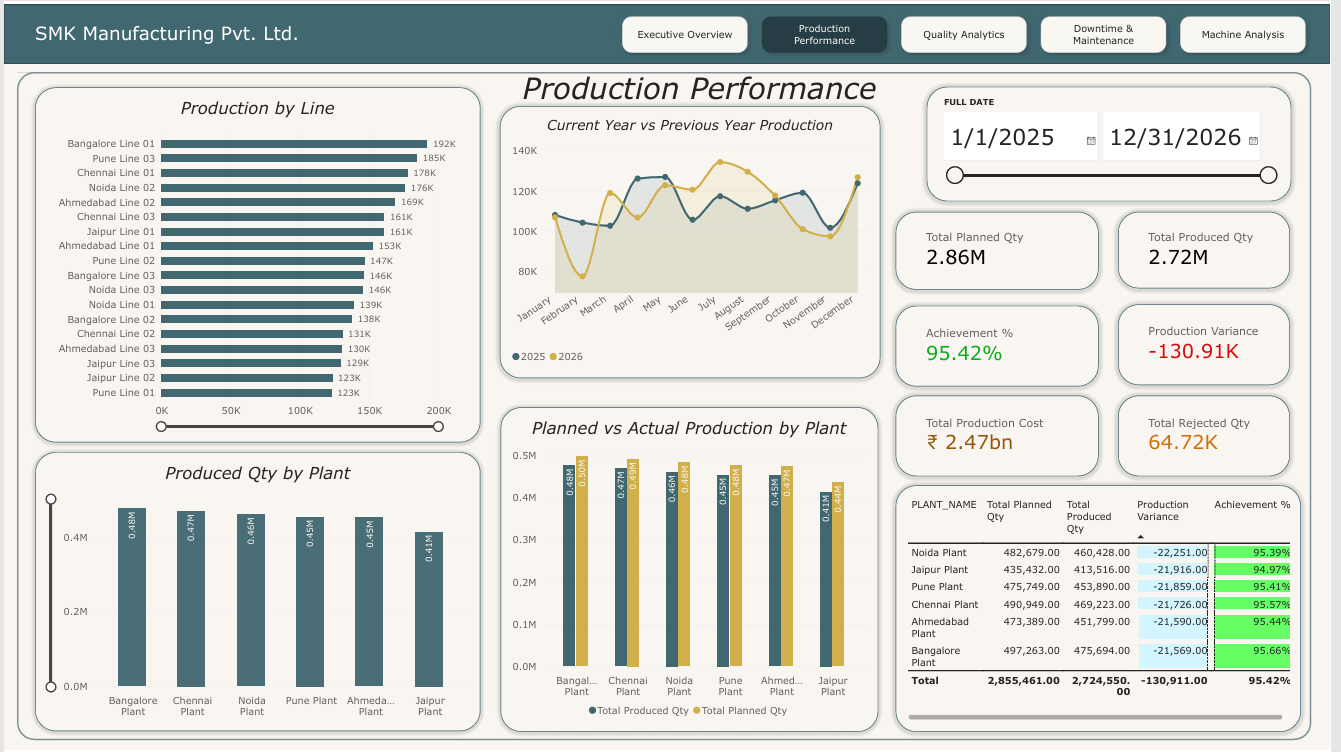

The dashboard page shown, as its layout file describes it:
{"tool":"powerbi","page":{"name":"Production Performance","canvas":[1920,1080],"ordinal":1},"visuals":[{"type":"shape","box":[19,97.6,1873.8,966.7],"z":0},{"type":"cardVisual","fields":{"Data":["FACT_PRODUCTION.Total Produced Qty"]},"box":[1612.8,300,249.1,111.3],"z":1000},{"type":"cardVisual","fields":{"Data":["FACT_PRODUCTION.Total Planned Qty"]},"box":[1291.5,300,293.6,112.8],"z":2000},{"type":"cardVisual","fields":{"Data":["FACT_PRODUCTION.Production Varience"]},"box":[1612.8,434,248.9,117],"z":3000},{"type":"cardVisual","fields":{"Data":["FACT_PRODUCTION.Achievement %"]},"box":[1291.5,436.2,293.6,117],"z":4000},{"type":"clusteredColumnChart","title":"Planned vs Actual Production by Plant","fields":{"Category":["DIM_PLANT.PLANT_NAME","DIM_DATE.FULL DATE.Variation.Date Hierarchy.Year"],"Y":["FACT_PRODUCTION.Total Produced Qty","FACT_PRODUCTION.Total Planned Qty"]},"box":[719.1,583,546.8,470.2],"z":5000},{"type":"clusteredBarChart","title":"Production by Line","fields":{"Category":["DIM_LINE.LINE_NAME"],"Y":["FACT_PRODUCTION.Total Produced Qty"]},"box":[45.1,119.6,645.1,513.7],"z":6000},{"type":"lineChart","title":"Current Year vs Previous Year Production","fields":{"Category":["DIM_DATE.FULL_DATE.Variation.Date Hierarchy.Month"],"Series":["DIM_DATE.FULL DATE.Variation.Date Hierarchy.Year"],"Y":["FACT_PRODUCTION.Total Produced Qty"]},"box":[718.5,146.7,551.1,393.6],"z":7000},{"type":"clusteredColumnChart","title":"Produced Qty by Plant","fields":{"Category":["DIM_PLANT.PLANT_NAME","DIM_LINE.LINE_NAME","DIM_DATE.FULL DATE.Variation.Date Hierarchy.Year","DIM_DATE.FULL DATE.Variation.Date Hierarchy.Quarter","DIM_DATE.FULL DATE.Variation.Date Hierarchy.Month"],"Y":["FACT_PRODUCTION.Total Produced Qty"]},"box":[45.2,647.6,645.1,403.9],"z":8000},{"type":"tableEx","fields":{"Values":["DIM_PLANT.PLANT_NAME","FACT_PRODUCTION.Total Planned Qty","FACT_PRODUCTION.Total Produced Qty","FACT_PRODUCTION.Production Varience","FACT_PRODUCTION.Achievement %"]},"box":[1291.5,695.7,587.2,357.4],"z":9000},{"type":"slicer","title":"DATE","fields":{"Values":["DIM_DATE.FULL_DATE"]},"box":[1336.2,119.1,527.7,166],"z":10000},{"type":"textbox","box":[735.8,94.3,569.8,62.3],"z":11000},{"type":"shape","box":[0,0,1920.4,85.7],"z":12000},{"type":"pageNavigator","box":[885.7,8.2,1008.2,71.4],"z":13000},{"type":"textbox","title":"smk manufacturing","box":[45.2,23.8,421.4,54.8],"z":14000},{"type":"cardVisual","fields":{"Data":["FACT_PRODUCTION.Total Rejected Qty"]},"box":[1612.8,566,248.9,117],"z":15000},{"type":"cardVisual","fields":{"Data":["FACT_PRODUCTION.Total Production Cost"]},"box":[1291.5,566,293.6,117],"z":16000}]}

Visuals, with their boxes in screenshot pixels (x1, y1, x2, y2), scaled from the page's 1920x1080 canvas onto the 1341x752 screenshot:
shape: (13,68,1322,741)
cardVisual - FACT_PRODUCTION.Total Produced Qty: (1126,209,1300,286)
cardVisual - FACT_PRODUCTION.Total Planned Qty: (902,209,1107,287)
cardVisual - FACT_PRODUCTION.Production Varience: (1126,302,1300,384)
cardVisual - FACT_PRODUCTION.Achievement %: (902,304,1107,385)
"Planned vs Actual Production by Plant" clusteredColumnChart: (502,406,884,733)
"Production by Line" clusteredBarChart: (31,83,482,441)
"Current Year vs Previous Year Production" lineChart: (502,102,887,376)
"Produced Qty by Plant" clusteredColumnChart: (32,451,482,732)
tableEx - DIM_PLANT.PLANT_NAME x FACT_PRODUCTION.Total Planned Qty: (902,484,1312,733)
"DATE" slicer: (933,83,1302,199)
textbox: (514,66,912,109)
shape: (0,0,1340,60)
pageNavigator: (619,6,1323,55)
"smk manufacturing" textbox: (32,17,326,55)
cardVisual - FACT_PRODUCTION.Total Rejected Qty: (1126,394,1300,476)
cardVisual - FACT_PRODUCTION.Total Production Cost: (902,394,1107,476)
